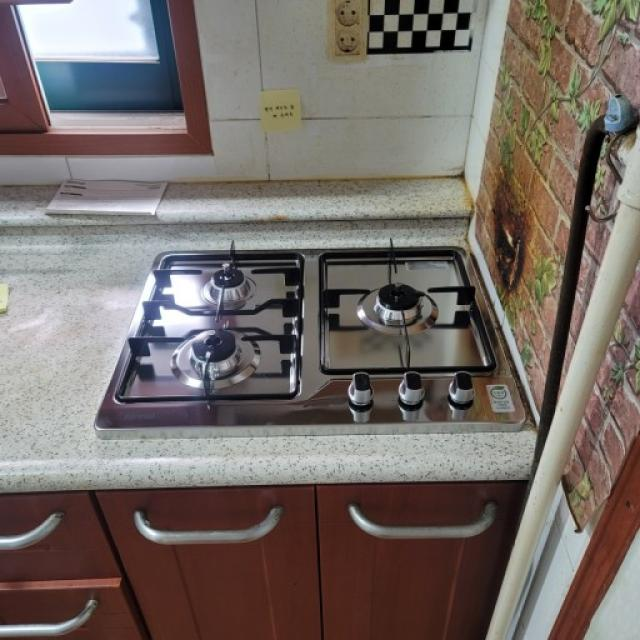knob_ON: (135, 239, 499, 430)
